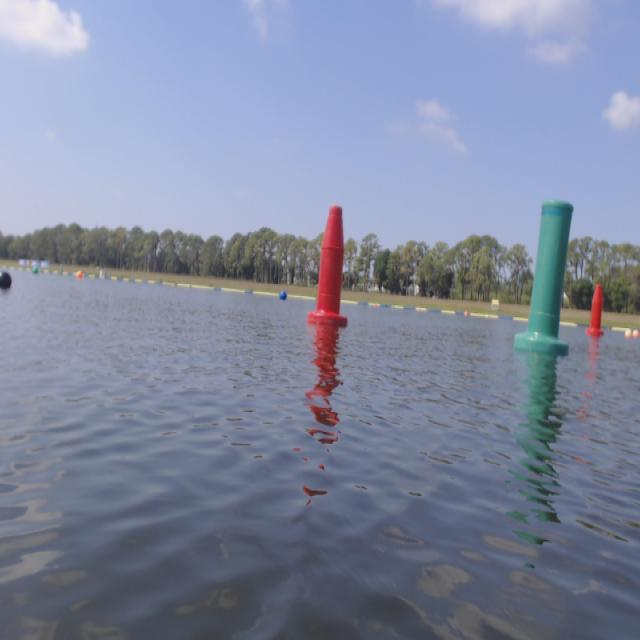Black_Buoy: (0, 267, 13, 296)
Green_Buoy: (536, 200, 560, 354)
Red_Buoy: (324, 208, 346, 334), (587, 282, 603, 349)
